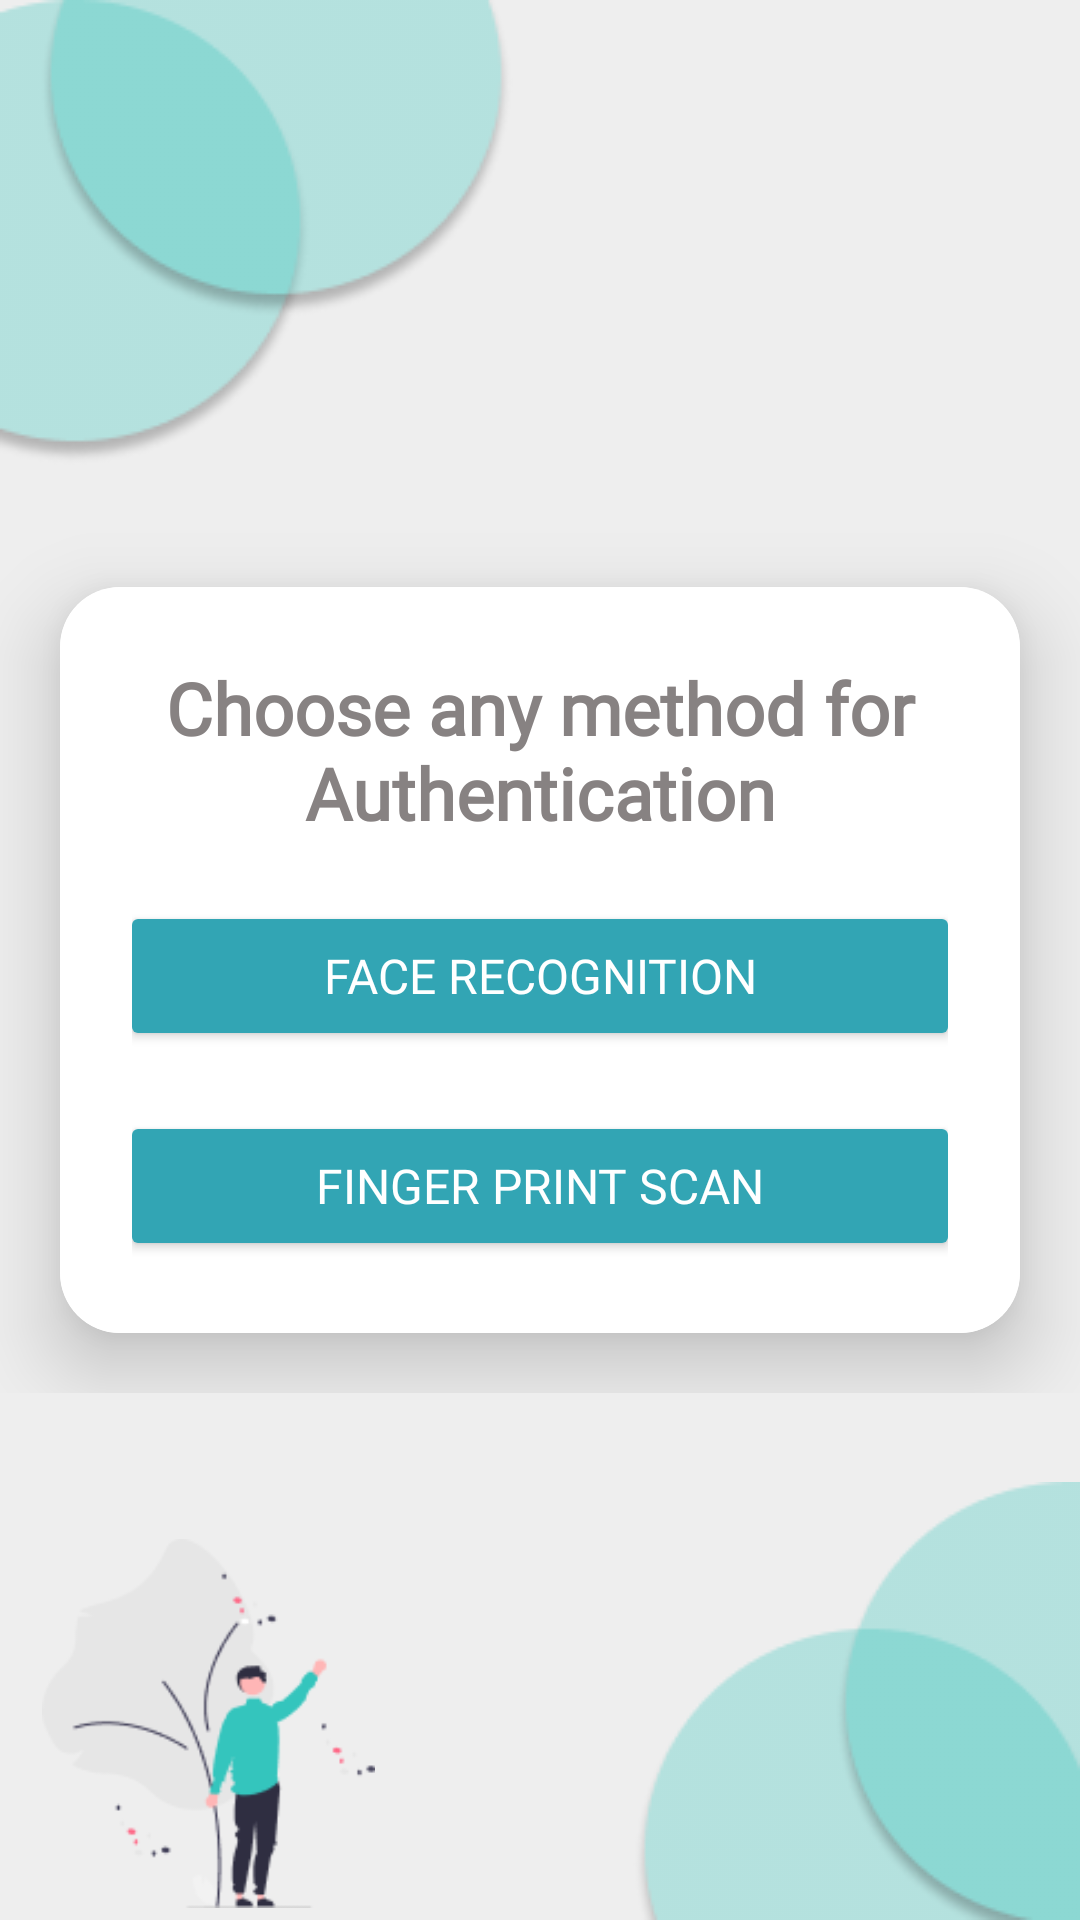

Locate icon controls on the screen. Image size 1080px×1920px, boxes as (x1, y1, x2, y2).
man: (72, 1573, 375, 1908)
